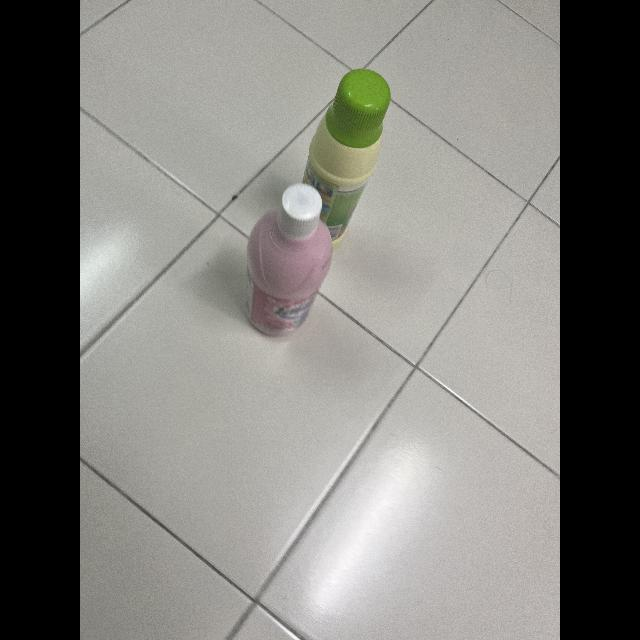chemical_plastic_bottle: (304, 64, 392, 252), (236, 180, 334, 340)
